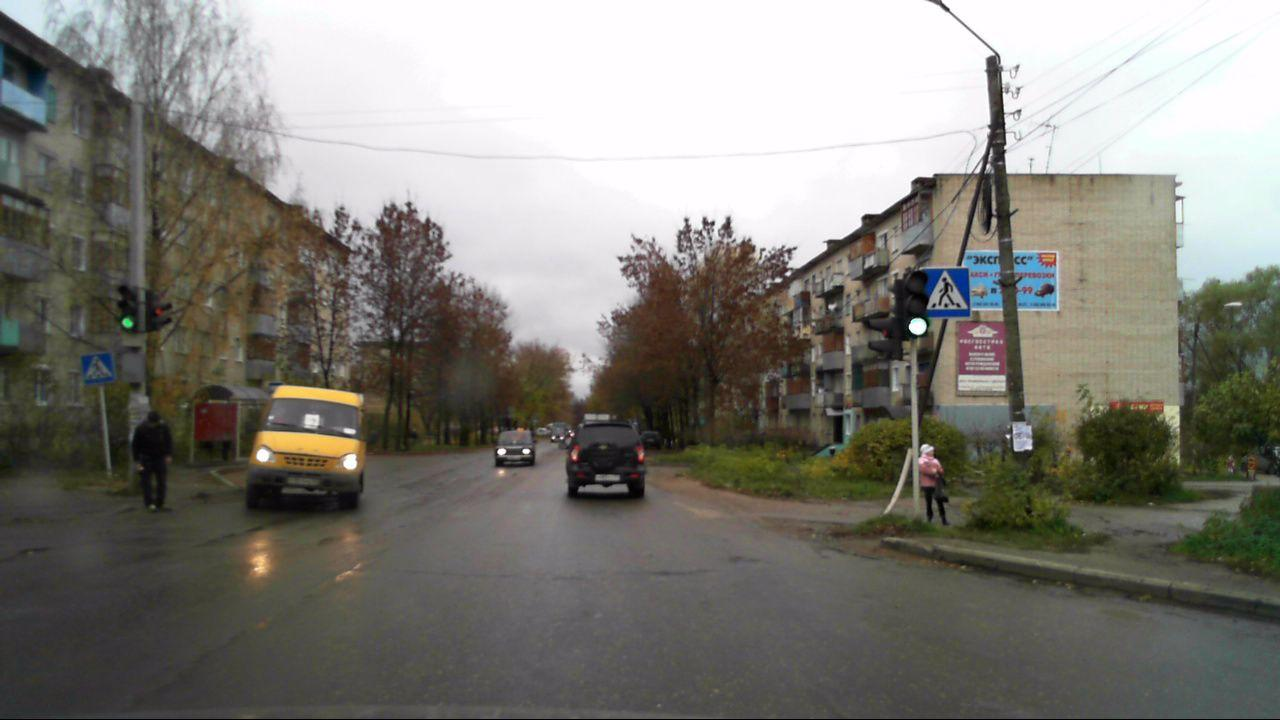5_19_1: (918, 266, 973, 316)
5_19_2: (79, 352, 113, 385)
